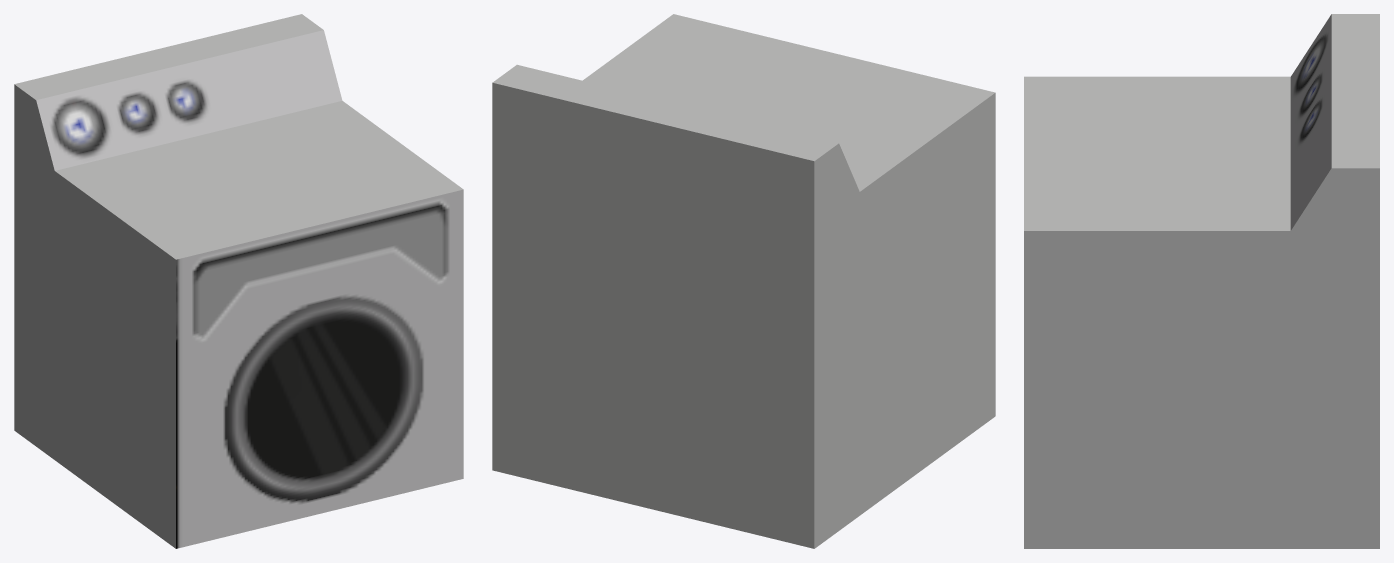
The model's file is Washer.fbx.
The picture shows the model from 3 angles, left to right: view 1: azimuth 30°, elevation 25°; view 2: azimuth 150°, elevation 25°; view 3: azimuth 270°, elevation 25°; orthographic projection. The views are drawn at different scales.
Visible parts, largest first — view 1: Maya_File_Assets:TexturedAssetsCurrent:washer; view 2: Maya_File_Assets:TexturedAssetsCurrent:washer; view 3: Maya_File_Assets:TexturedAssetsCurrent:washer.
Boxes of the visible parts, <box> form: Maya_File_Assets:TexturedAssetsCurrent:washer: <box>14,14,463,548</box>; Maya_File_Assets:TexturedAssetsCurrent:washer: <box>492,14,995,548</box>; Maya_File_Assets:TexturedAssetsCurrent:washer: <box>1024,14,1379,548</box>.
Bounding box in the file's own units: 1.06 × 1.22 × 1.03.
